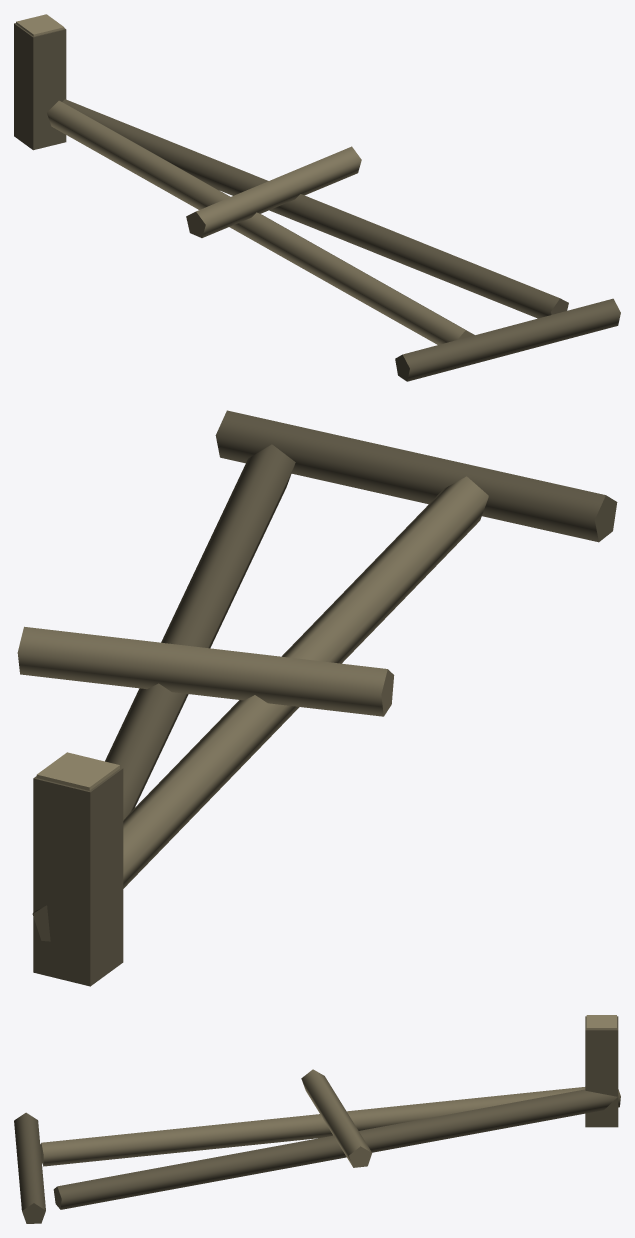
The model's file is VerFence11.glb.
3 renders of one model, top to bottom at view 1: azimuth 30°, elevation 25°; view 2: azimuth 150°, elevation 25°; view 3: azimuth 270°, elevation 25°, orthographic. The views are drawn at different scales.
Parts seen in each view (by area): view 1: VerFence11_wood2; view 2: VerFence11_wood2; view 3: VerFence11_wood2.
Boxes of the visible parts, box(x1,y1,x2,y2) form: VerFence11_wood2: box(14, 14, 620, 381); VerFence11_wood2: box(17, 410, 617, 986); VerFence11_wood2: box(14, 1015, 620, 1223).
Size of the model in its own units: 2.04 by 0.8697 by 4.78.
